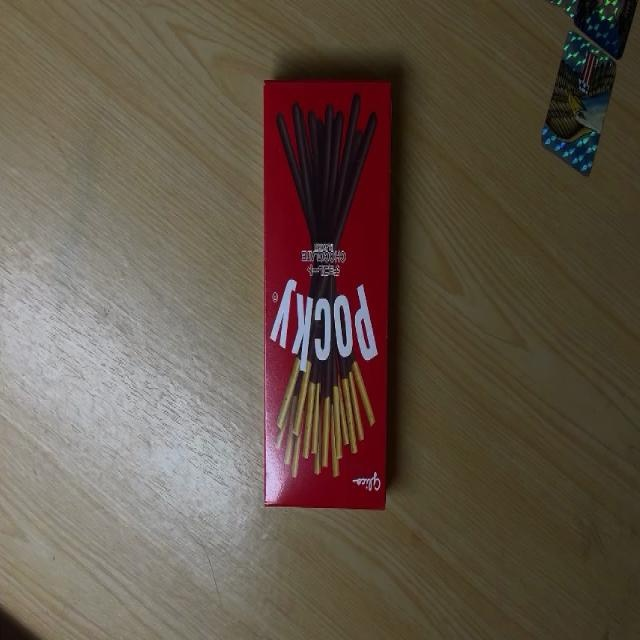Pocky: (262, 80, 388, 512)
